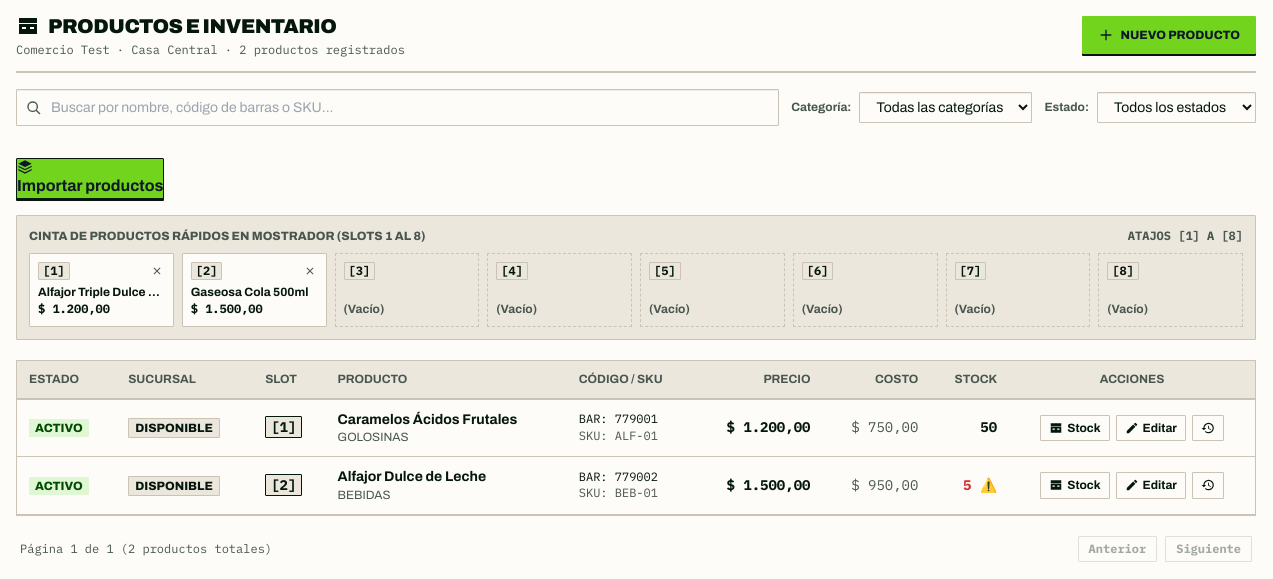
it: ProductsScreen ("Mostrador vivo" Visual Catalog) › performs accent-insensitive in-memory refiltering so "acidos" matches "Caramelos Ácidos"
Expected: the text "Caramelos Ácidos Frutales" is shown, [338, 412, 517, 427]
Expected: the text "Alfajor Dulce de Leche" is shown, [338, 469, 486, 484]
# Type "acidos" without accent
Type "acidos" into the search field with placeholder "Buscar por nombre, código de barras o SKU..." at (398, 108), box [16, 89, 779, 126]
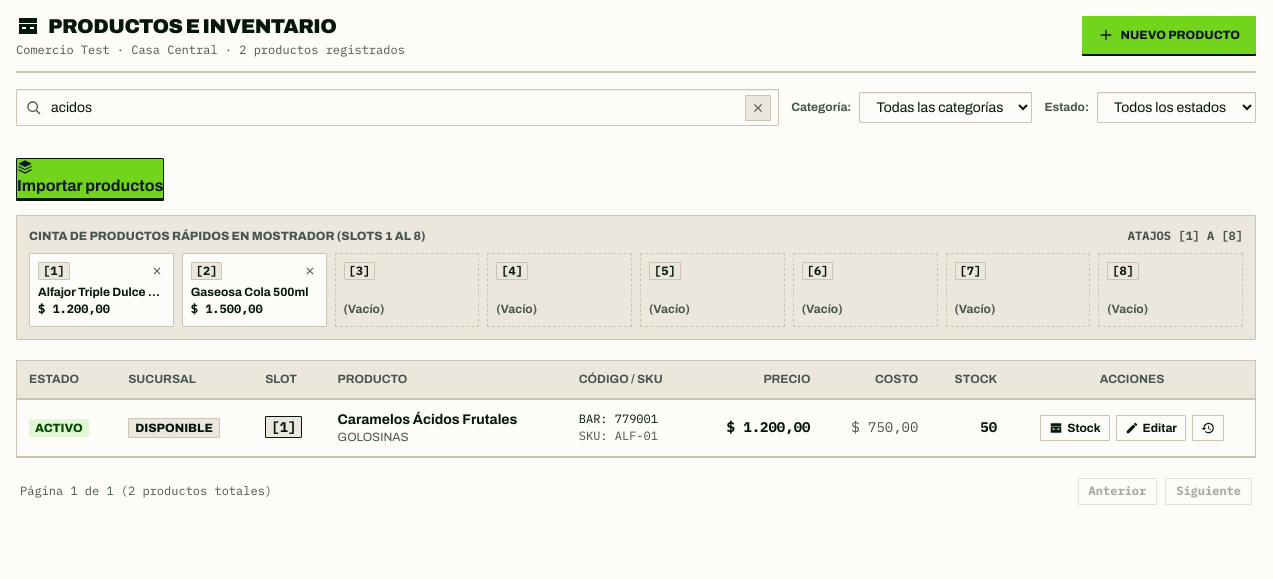
Expected: the text "Caramelos Ácidos Frutales" is shown, [338, 412, 517, 427]
Expected: the text "Alfajor Dulce de Leche" is gone
